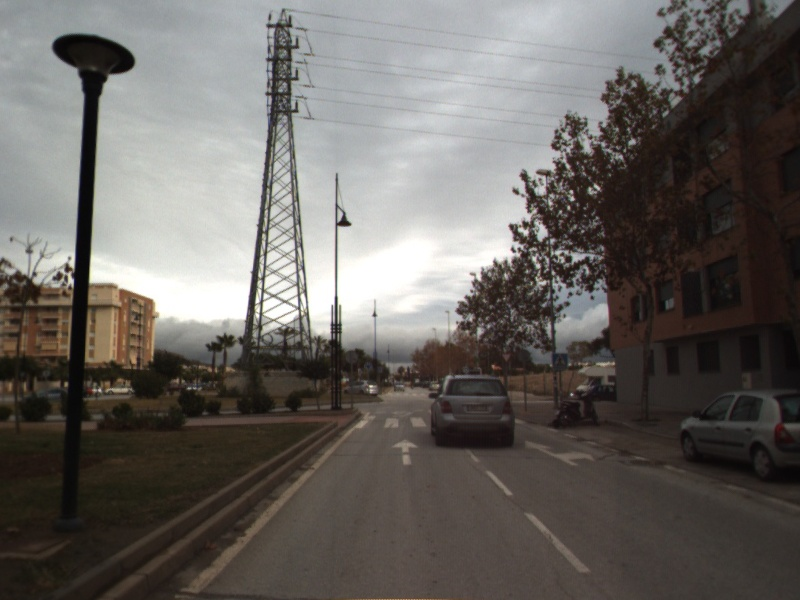STRAIGHT: (390, 436, 421, 467)
STRAIGHT_RIGHT: (523, 438, 597, 467)
